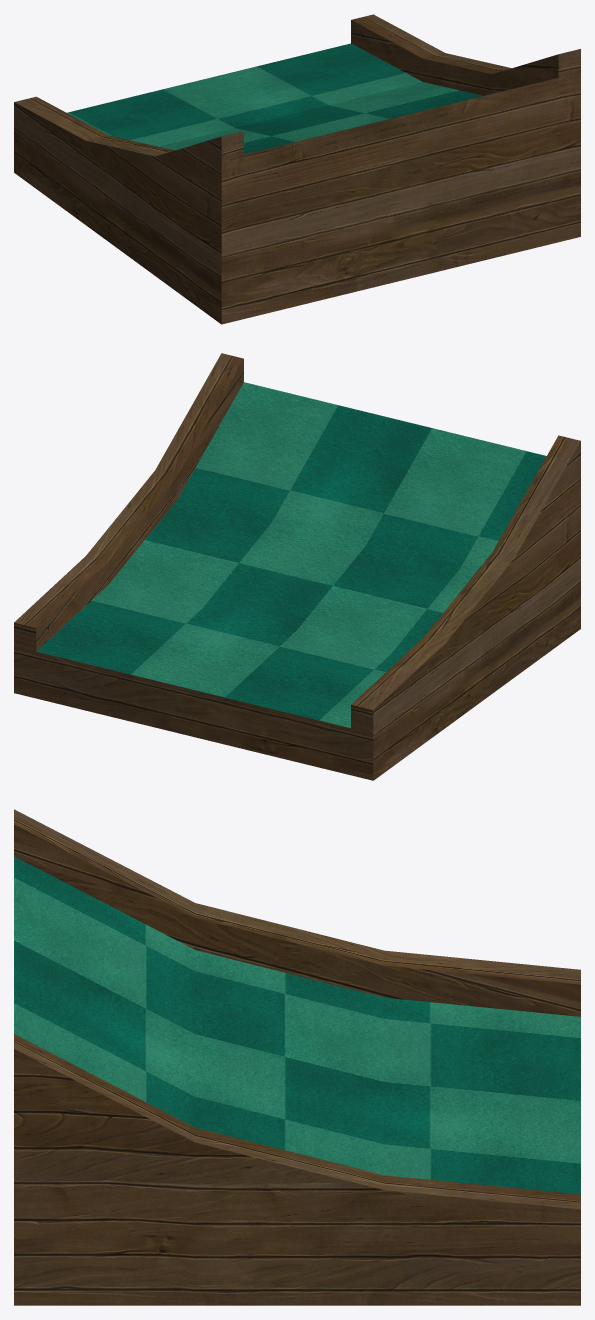
The model's file is Ramp2.gltf.
The picture shows the model from 3 angles, top to bottom: view 1: azimuth 30°, elevation 25°; view 2: azimuth 150°, elevation 25°; view 3: azimuth 270°, elevation 25°; orthographic projection. The views are drawn at different scales.
Visible parts, largest first — view 1: Ramp2_glb; view 2: Ramp2_glb; view 3: Ramp2_glb.
Boxes of the visible parts, <box> form: Ramp2_glb: <box>14,14,580,324</box>; Ramp2_glb: <box>14,353,580,780</box>; Ramp2_glb: <box>14,809,580,1305</box>.
Size of what is drawn, in the model's own units: 4 by 2 by 4.
Materials: 2 (2 with a texture image).
